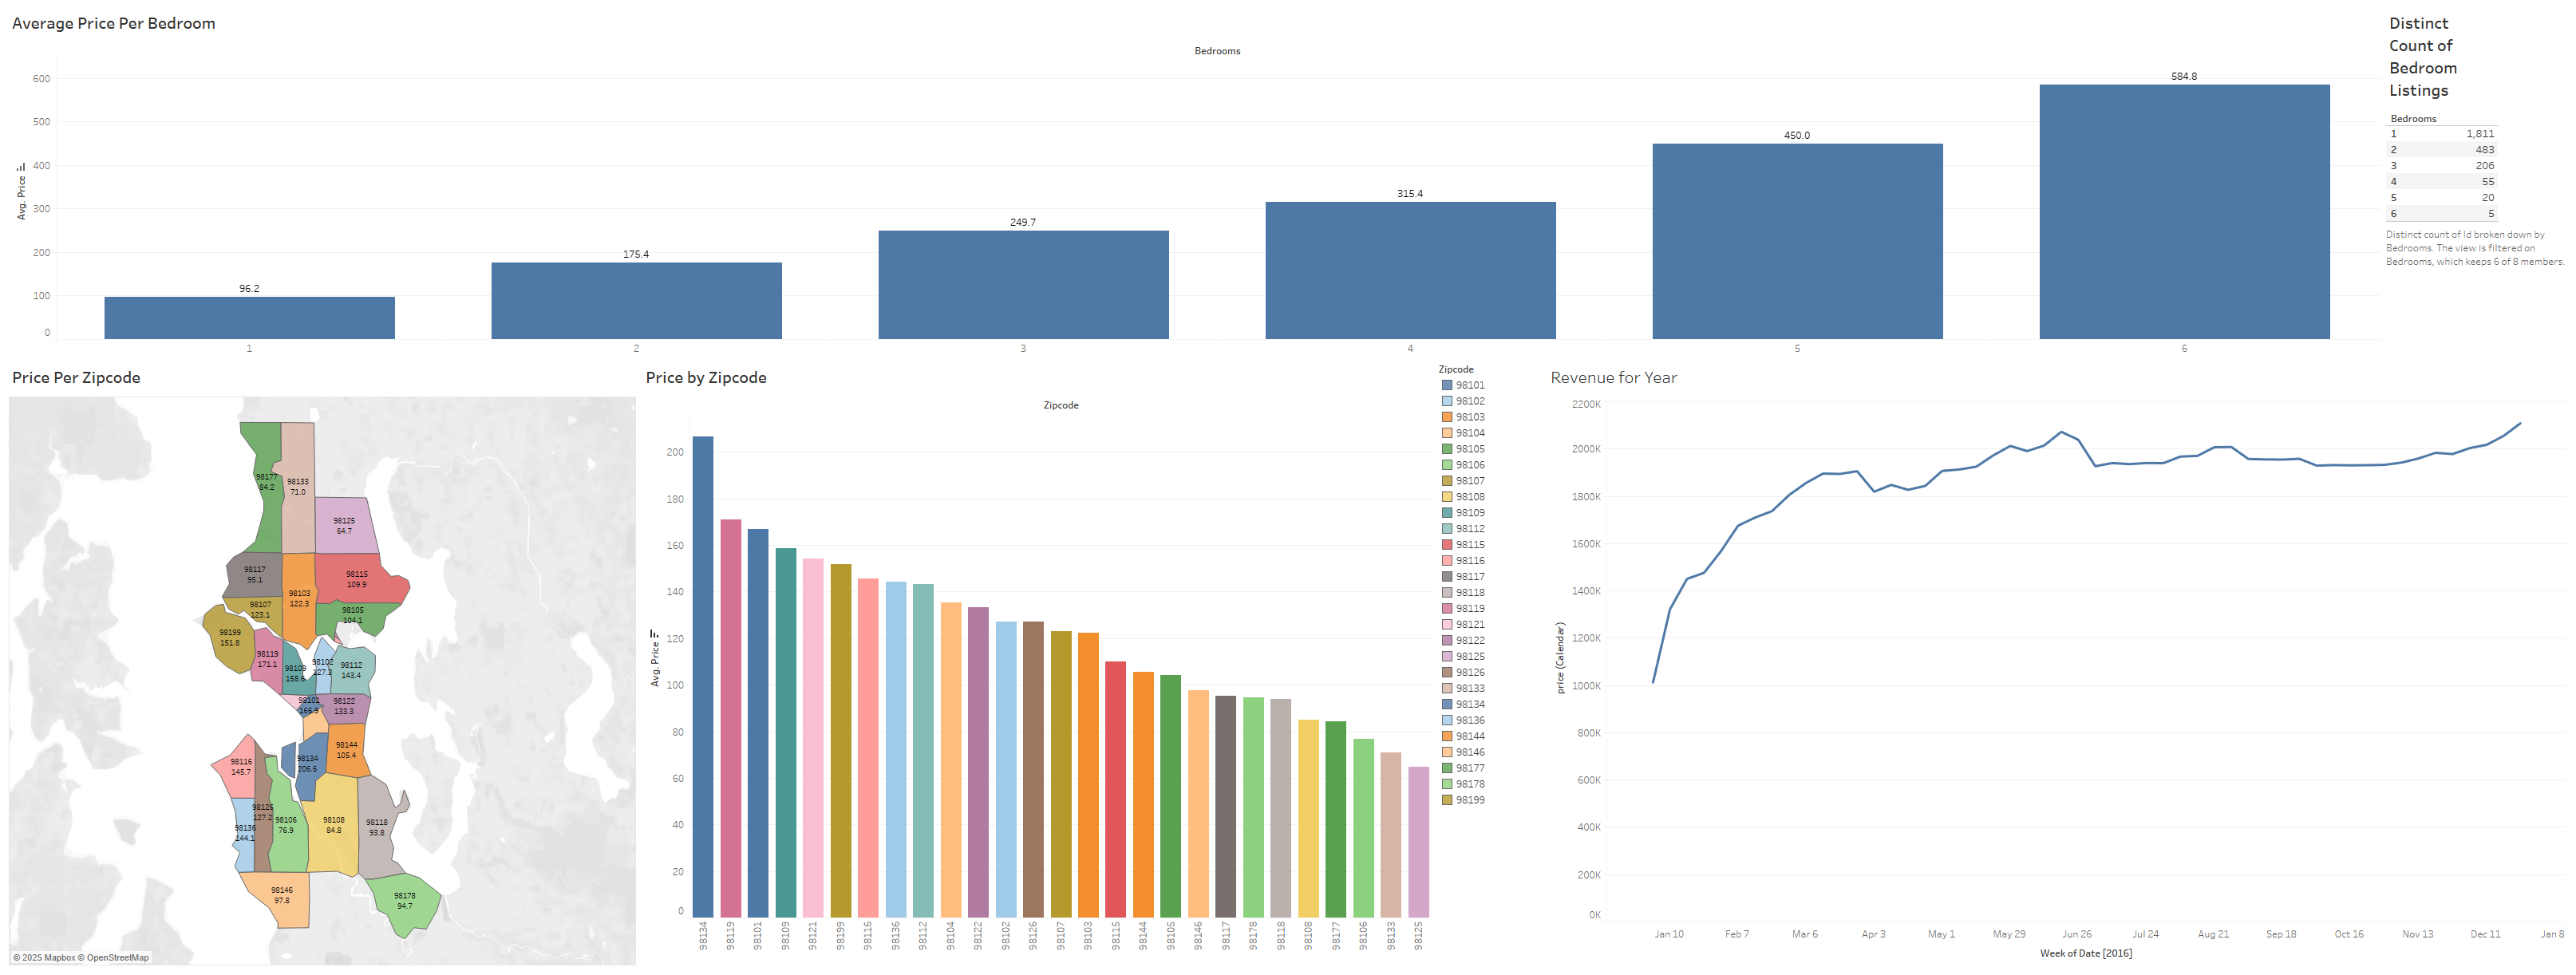

The page's visual inventory and layout, read from the dashboard file:
{"tool":"tableau","page":{"name":"Final Dashboard","canvas":[1000,1000],"units":"permille","ordinal":0},"visuals":[{"type":"worksheet","title":"AVG Price Per Bedroom","mark":"Automatic","rows":["price"],"cols":["bedrooms"],"box":[2.6,6.5,922.4,362.7]},{"type":"worksheet","title":"Count of Bedroom Listings","mark":"Automatic","rows":["bedrooms"],"box":[925,6.5,72.4,362.7]},{"type":"worksheet","title":"Price Per Zipcode","mark":"Multipolygon","box":[2.6,369.3,246,624.2]},{"type":"worksheet","title":"Price By ZipCode","mark":"Automatic","rows":["price"],"cols":["zipcode"],"box":[248.6,369.3,309,624.2]},{"type":"legend","title":"Price Per Zipcode","param":"[federated.11z491615m30om1c6ap7n0j7w495].[none:zipcode:ok]","box":[557.6,369.3,41.9,624.2]},{"type":"worksheet","title":"Revenue for Year","mark":"Automatic","rows":["price (Calendar)"],"cols":["date"],"box":[599.5,369.3,397.9,624.2]}]}

Visuals, with their boxes on the dashboard's canvas, which has no fixed pixel size, in thousandths of its width and height (x1, y1, x2, y2). These are canvas units, not pixel positions in the 2576x975 screenshot, which may show the page scaled, cropped or inside an application window:
"AVG Price Per Bedroom" worksheet: 3:6:925:369
"Count of Bedroom Listings" worksheet: 925:6:997:369
"Price Per Zipcode" worksheet (Multipolygon marks): 3:369:249:994
"Price By ZipCode" worksheet: 249:369:558:994
"Price Per Zipcode" legend: 558:369:600:994
"Revenue for Year" worksheet: 600:369:997:994
